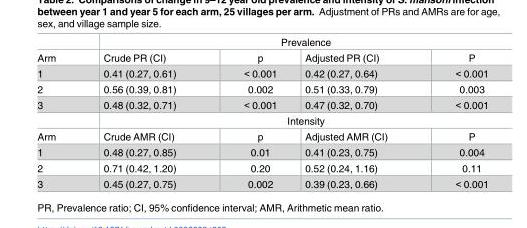table: (36, 37, 487, 189)
table column: (78, 37, 209, 189), (290, 37, 420, 189), (209, 37, 290, 189), (420, 37, 487, 189), (36, 37, 78, 189)
table column header: (36, 37, 487, 65)
table row: (36, 96, 487, 113), (36, 49, 487, 65), (36, 65, 487, 81), (36, 128, 487, 144), (36, 144, 487, 160), (36, 81, 487, 96), (36, 113, 487, 128), (36, 160, 487, 175), (36, 175, 487, 189), (36, 37, 487, 49)
table spanning cell: (78, 113, 487, 128), (78, 37, 487, 49), (36, 96, 78, 128), (36, 37, 78, 65)
